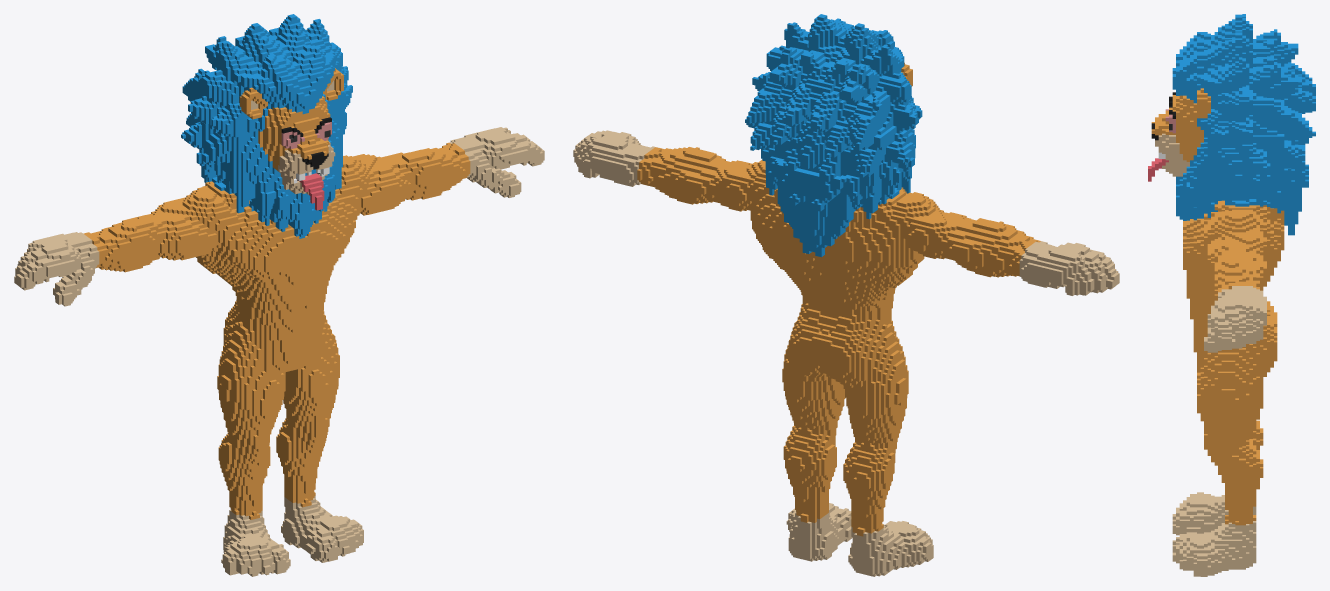
File: 1005-C_KhWOCT.glb
3 views of the same model, side by side, from view 1: azimuth 30°, elevation 25°; view 2: azimuth 150°, elevation 25°; view 3: azimuth 270°, elevation 25° (orthographic). The views are drawn at different scales.
Parts seen in each view (by area): view 1: tongue_out; view 2: tongue_out; view 3: tongue_out.
Boxes of the visible parts, box(x1,y1,x2,y2) form: tongue_out: box(14, 14, 544, 576); tongue_out: box(573, 14, 1119, 576); tongue_out: box(1148, 14, 1315, 576).
Bounding box in the file's own units: 17.2 × 16.5 × 4.8.
Materials: 4 (4 with a texture image).
